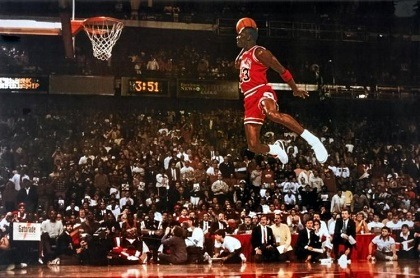basket: (80, 11, 126, 63)
dunk: (222, 11, 333, 173)
